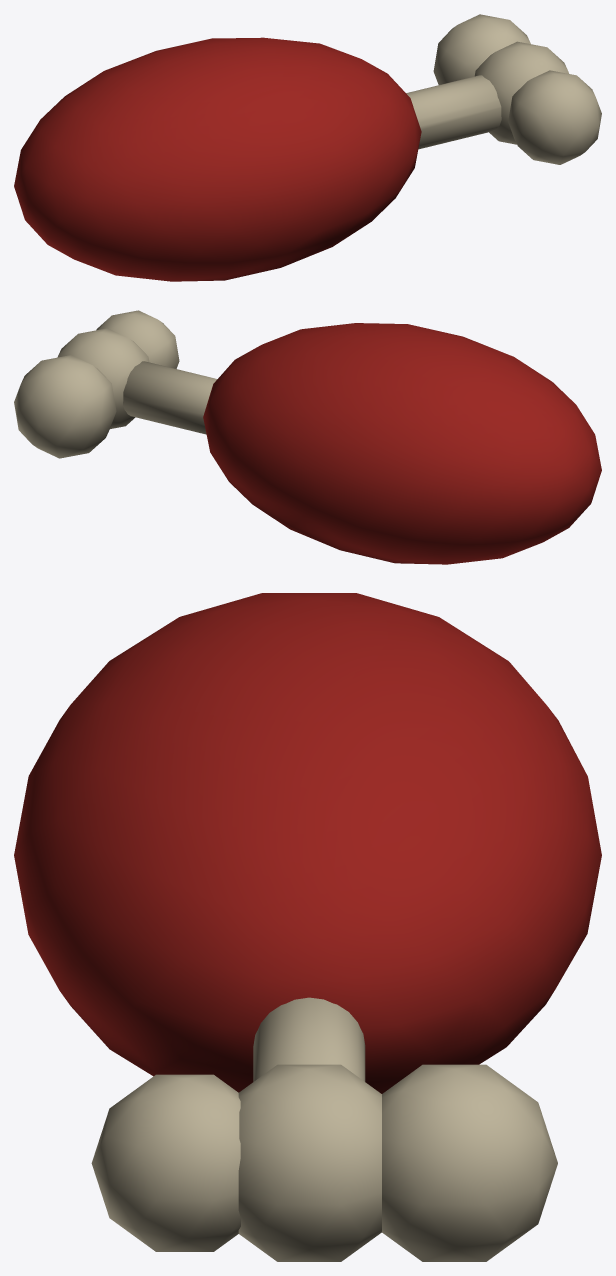
Rendered from raw-meat.obj.
3 renders of one model, top to bottom at view 1: azimuth 30°, elevation 25°; view 2: azimuth 150°, elevation 25°; view 3: azimuth 270°, elevation 25°, orthographic. The views are drawn at different scales.
Visible parts, largest first — view 1: raw-meat; view 2: raw-meat; view 3: raw-meat.
Part boxes in pixels (x1,y1,x2,y2): raw-meat: (14, 14, 601, 281); raw-meat: (14, 310, 601, 564); raw-meat: (14, 593, 601, 1261).
Size of the model in its own units: 0.5835 by 0.21 by 0.2836.
